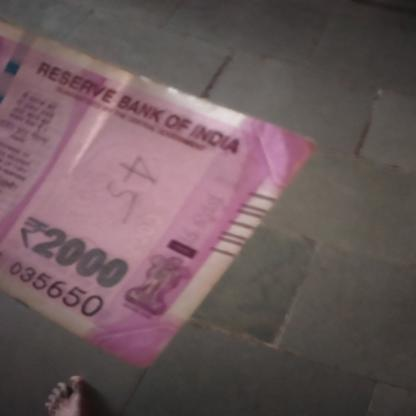New2000Front: (0, 25, 245, 329)
